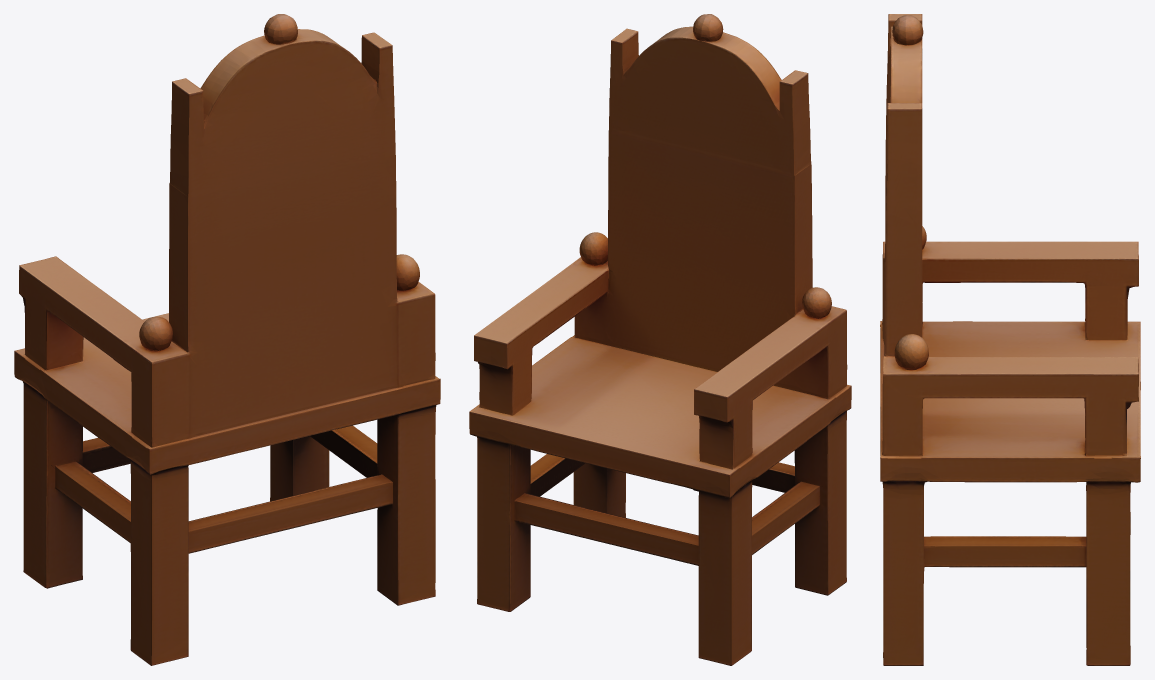
The model's file is sofa_8.glb.
The picture shows the model from 3 angles, left to right: view 1: azimuth 30°, elevation 25°; view 2: azimuth 150°, elevation 25°; view 3: azimuth 270°, elevation 25°; orthographic projection. The views are drawn at different scales.
Parts seen in each view (by area): view 1: world; view 2: world; view 3: world.
Part boxes in pixels (x1=…): world: x1=14, y1=14, x2=440, y2=665; world: x1=469, y1=14, x2=851, y2=665; world: x1=880, y1=14, x2=1140, y2=665.
Bounding box in the file's own units: 0.502 × 1 × 0.4056.
1 material, 1 textured.
